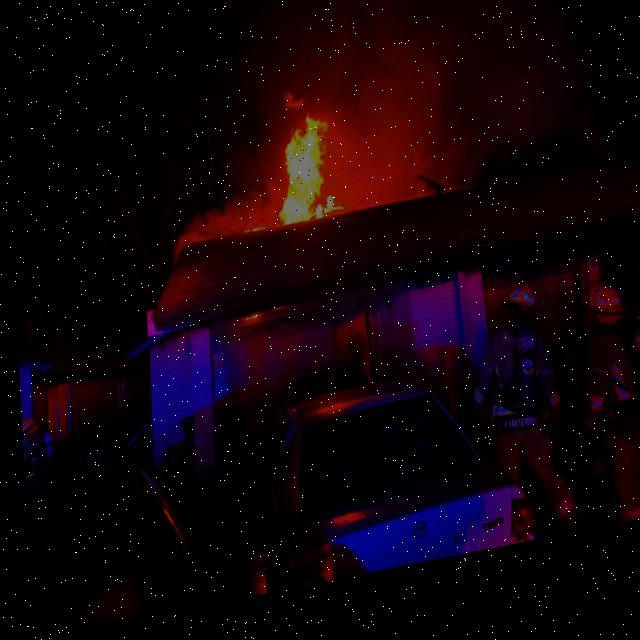Fire: (236, 91, 342, 245)
